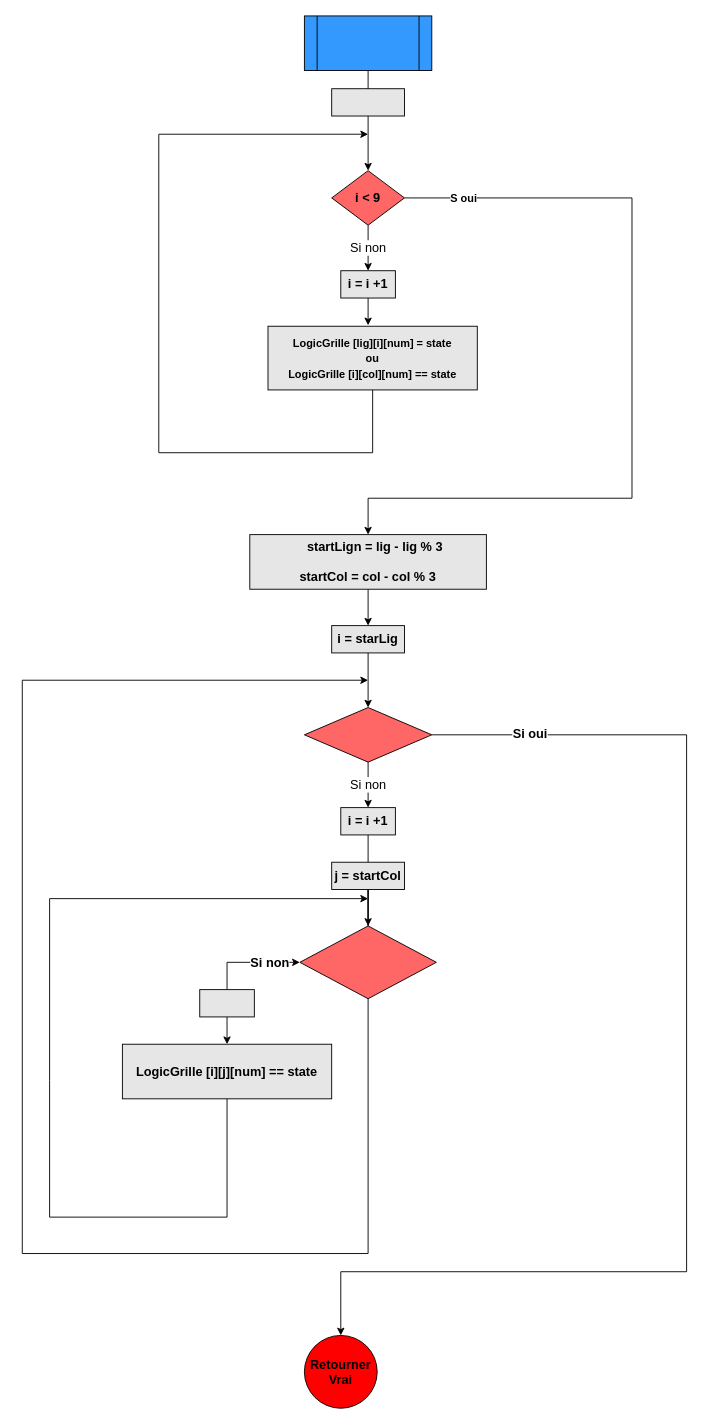
Image size: 710x1424. Some labels were removed from this diagram. The box of each missing label's shape, as (x1, y1, x2, y2) in pixels:
i < startLig +3: (303, 707, 432, 762)
i = 0: (331, 88, 404, 116)
j < startCol + 3: (299, 925, 436, 999)
j = j +1: (199, 989, 254, 1017)
UpdateState (lig, col, num, state): (303, 15, 432, 71)
